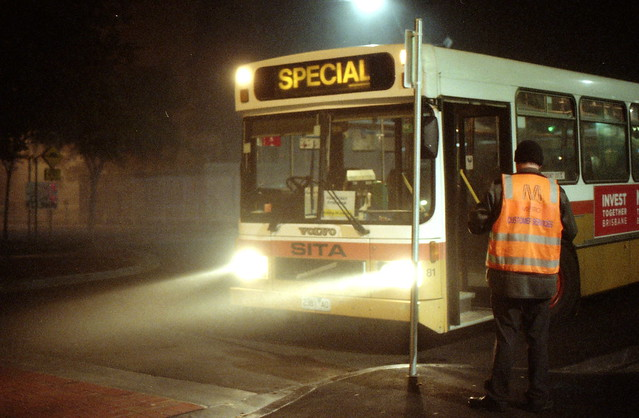bus: (235, 44, 639, 335)
